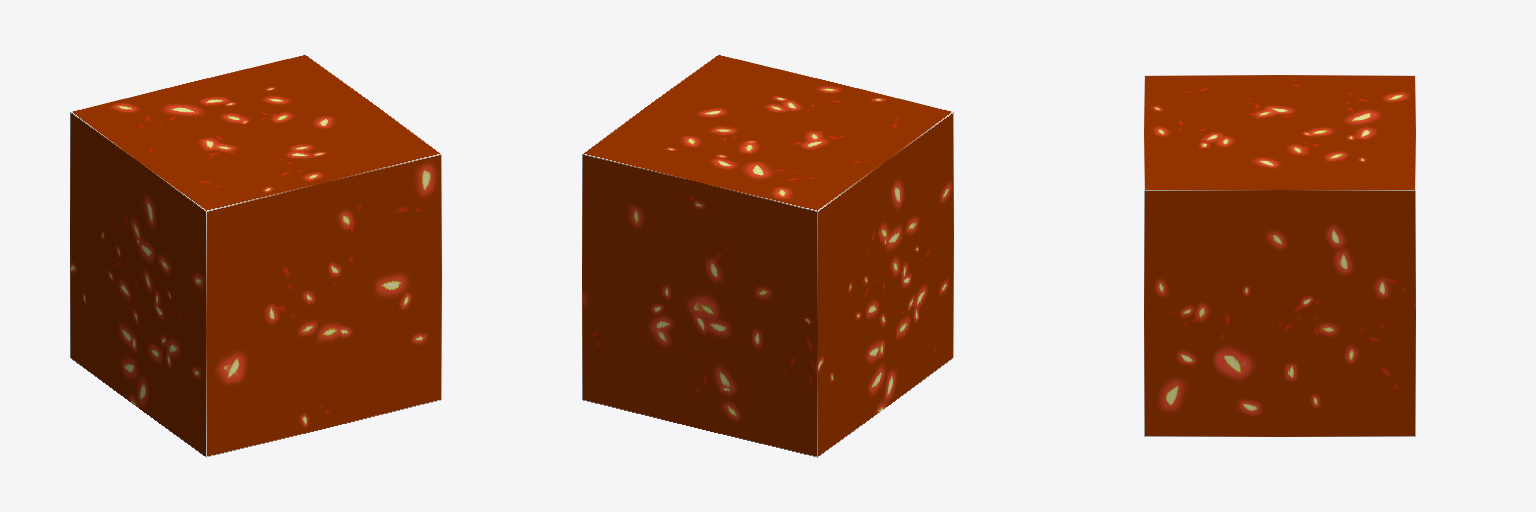
The picture shows the model from 3 angles: view 1: azimuth 30°, elevation 25°; view 2: azimuth 150°, elevation 25°; view 3: azimuth 270°, elevation 25°; orthographic projection.
Visible parts, largest first — view 1: Cube; view 2: Cube; view 3: Cube.
Boxes of the visible parts, box(x1,y1,x2,y2) form: Cube: box(70, 54, 441, 457); Cube: box(582, 54, 953, 457); Cube: box(1144, 75, 1415, 436).
Size of the model in its own units: 1 by 1 by 1.
Materials: 1 (1 with a texture image).